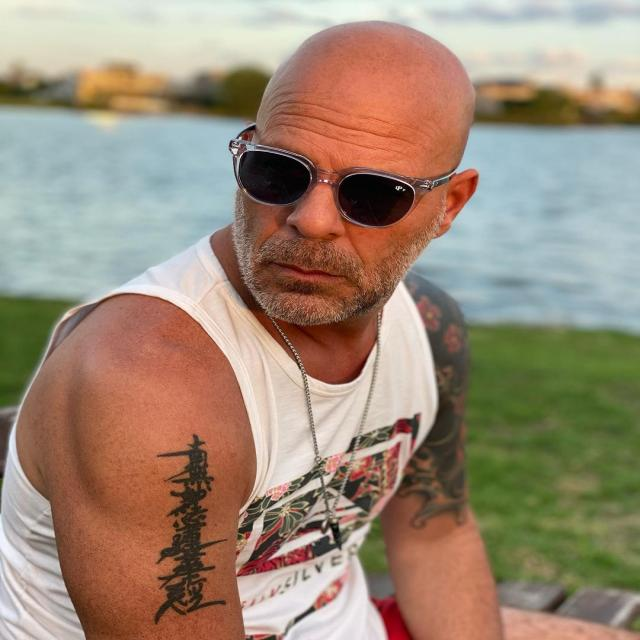beard: (231, 190, 446, 327)
